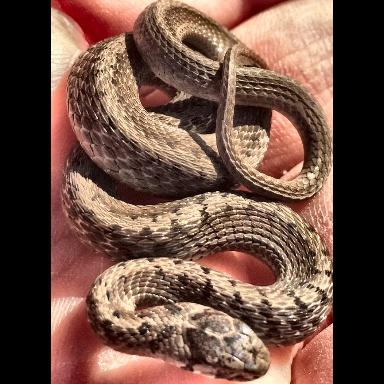snake: (60, 1, 332, 382)
